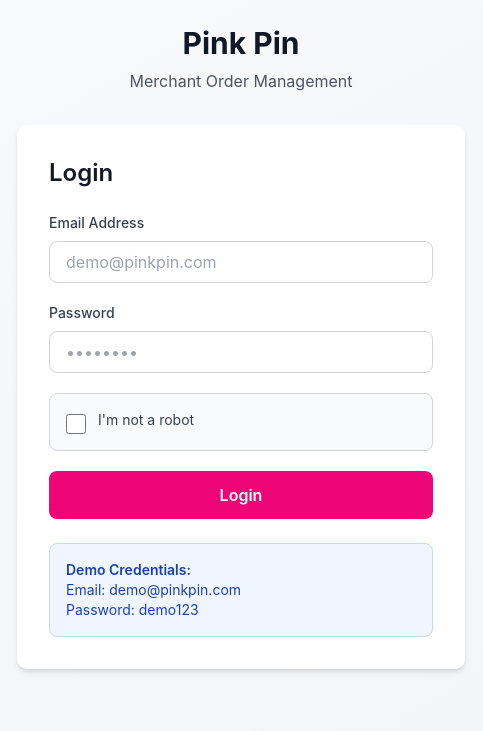
Test: LoginPage › CAPTCHA Interaction › should clear CAPTCHA error when checkbox is checked
Click the button "Login". click: click(241, 495)
box: [49,471,433,519]
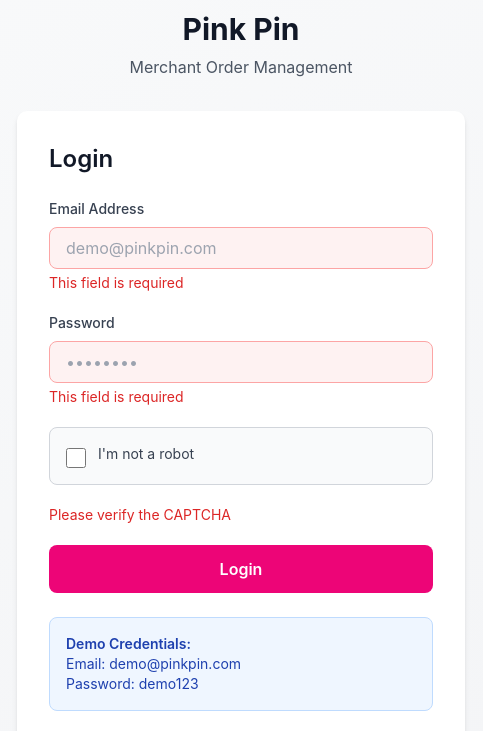
Expected: the text "Please verify the CAPTCHA" is shown, [49,506,231,523]
Click the checkbox labelled "I'm not a robot". click: click(76, 458)
box: [66,448,86,468]
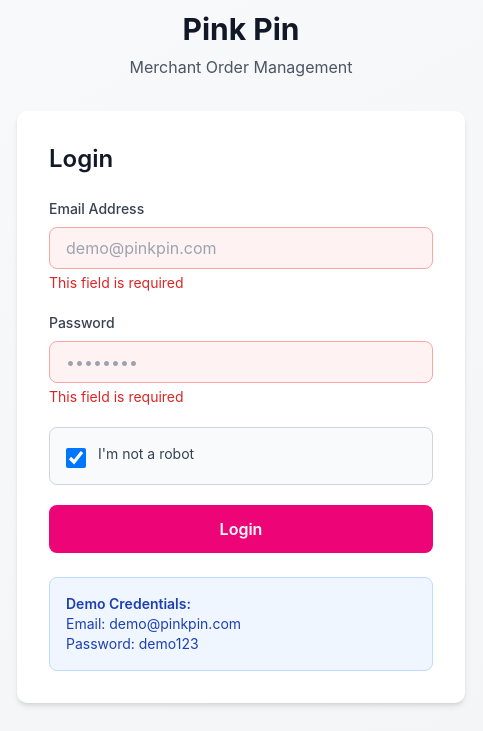
Expected: the text "Please verify the CAPTCHA" is gone
